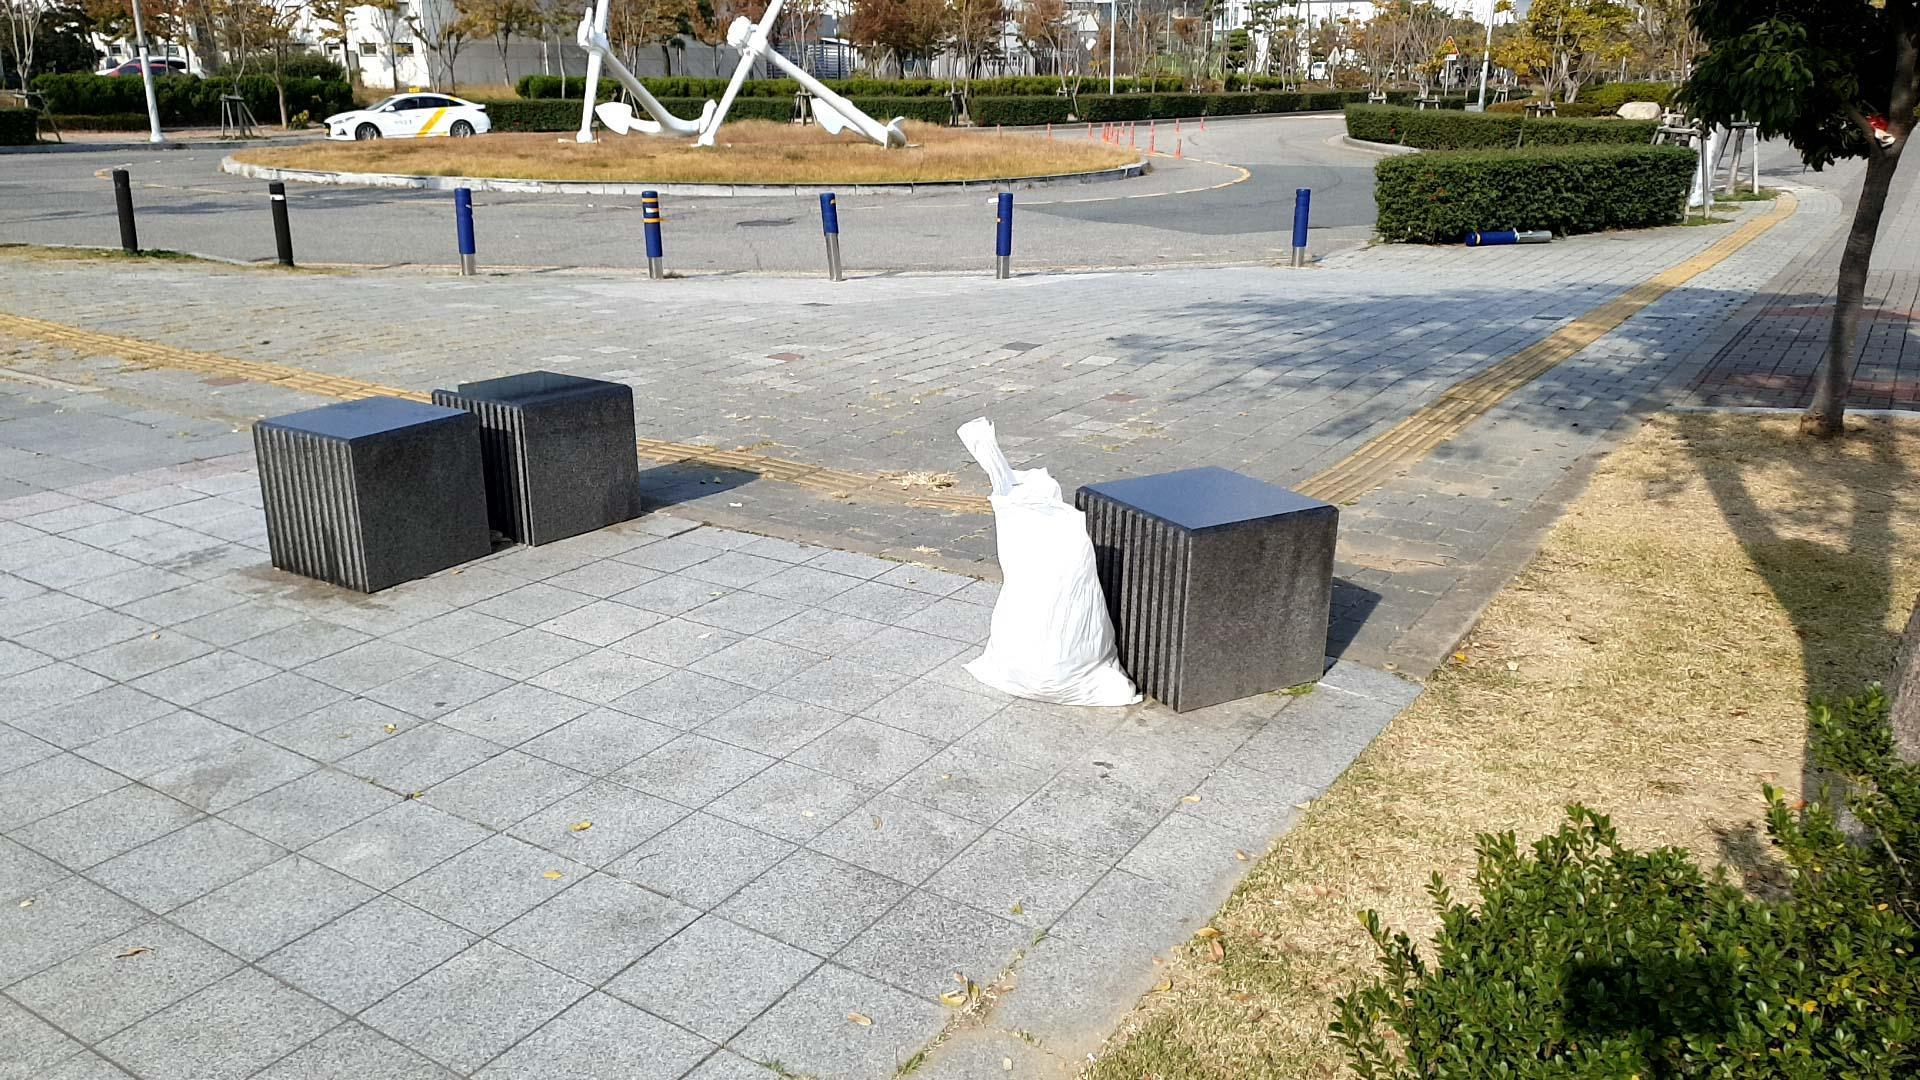white_bag: (948, 409, 1154, 717)
